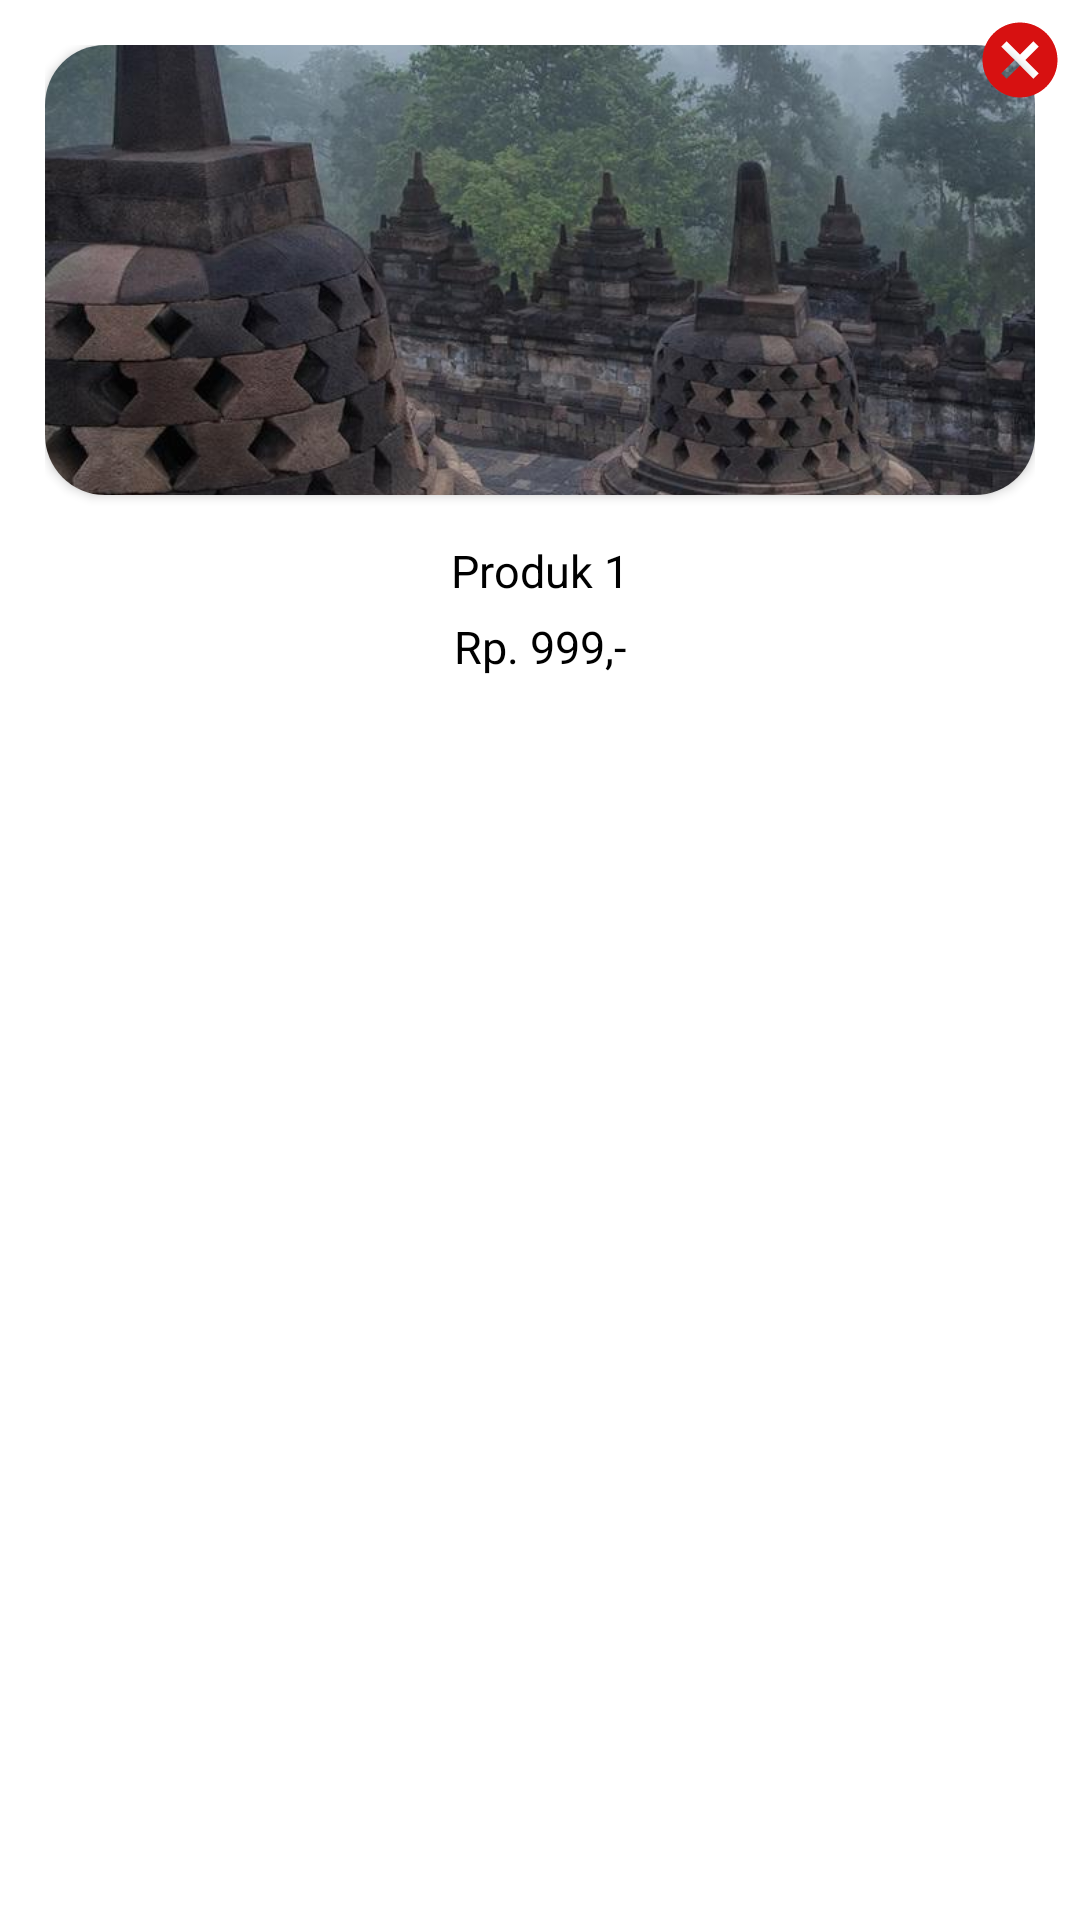

Point at icon controls on the screen. Image size 1080px x 1920px, points as [x,y].
delete: [1016,63]
